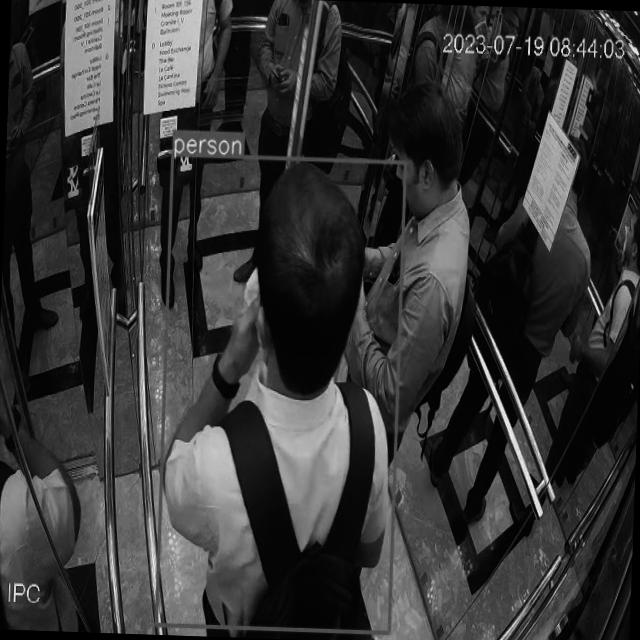person: (157, 154, 406, 632), (319, 77, 478, 630), (0, 190, 134, 603), (535, 173, 640, 522), (232, 0, 350, 290)
